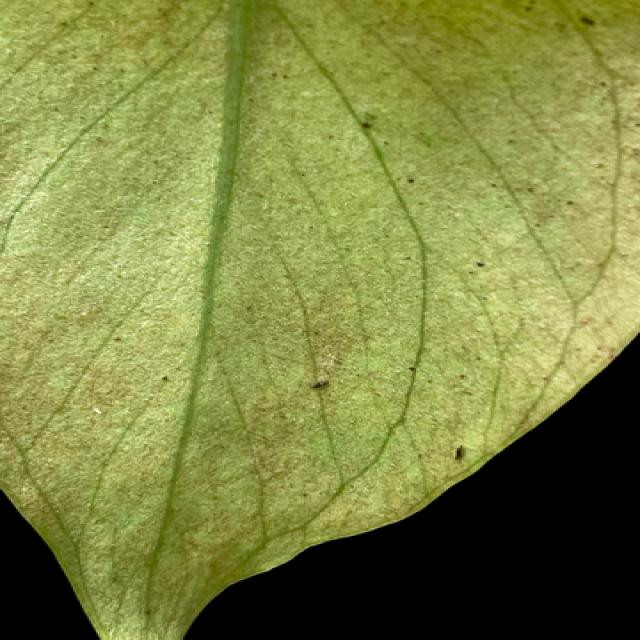Thrip-Adult-: (448, 438, 476, 468)
